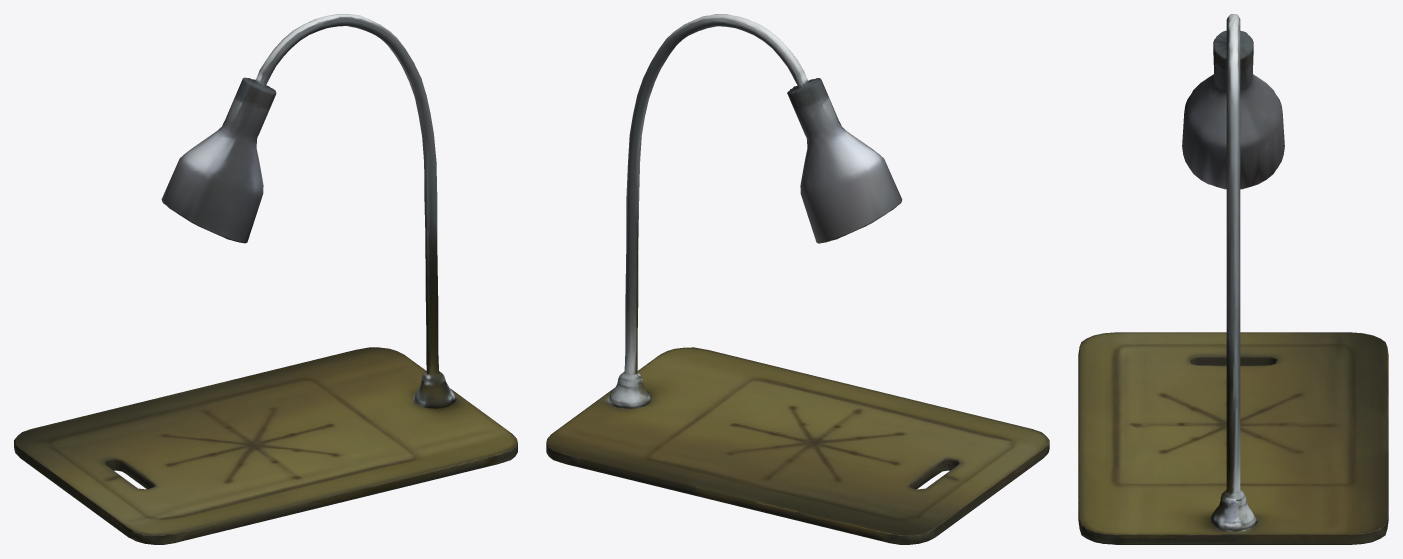
Rendered from Heated_Carving_Station_24InchesTall_Tabletop_0222025655_texture.glb.
The picture shows the model from 3 angles, left to right: view 1: azimuth 30°, elevation 25°; view 2: azimuth 150°, elevation 25°; view 3: azimuth 270°, elevation 25°; orthographic projection. The views are drawn at different scales.
Parts seen in each view (by area): view 1: Mesh_0; view 2: Mesh_0; view 3: Mesh_0.
Boxes of the visible parts, x1,y1,x2,y2 form: Mesh_0: (14,14,517,544); Mesh_0: (546,14,1049,544); Mesh_0: (1078,14,1388,544).
Bounding box in the file's own units: 0.5771 × 0.6096 × 0.3743.
1 material, 1 textured.
